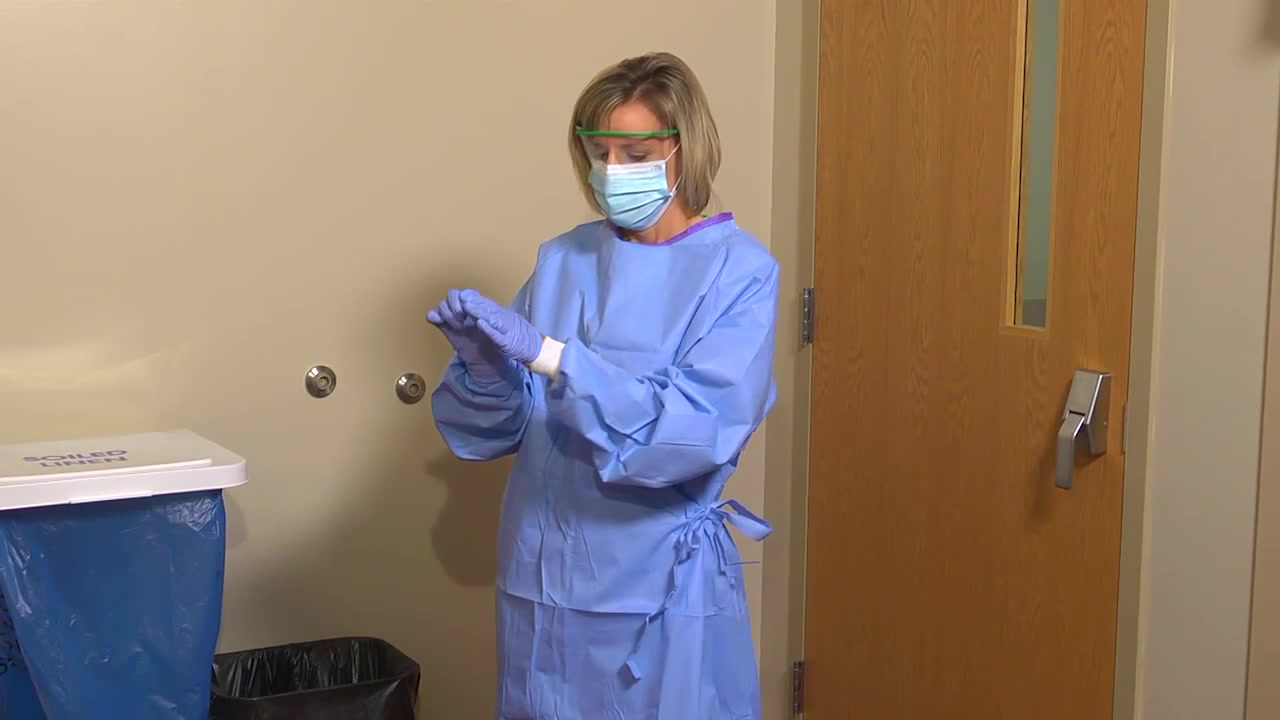Coverall: (496, 224, 761, 720)
Face_Shield: (566, 111, 688, 240)
Gloves: (415, 278, 566, 395)
with_mask: (576, 153, 676, 230)
